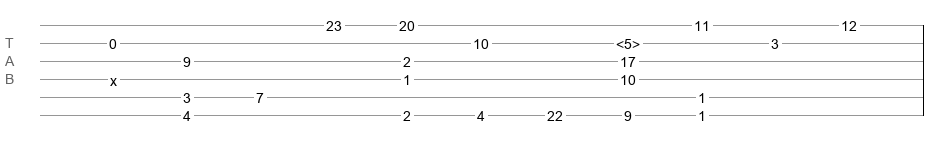0: (109, 36, 117, 46)
1: (403, 72, 411, 82), (698, 90, 706, 100), (698, 108, 706, 118)
10: (473, 36, 489, 46), (620, 72, 636, 82)
11: (694, 18, 710, 28)
12: (841, 18, 857, 28)
17: (620, 54, 636, 64)
2: (403, 108, 411, 118), (403, 54, 411, 64)
20: (399, 18, 415, 28)
22: (547, 108, 563, 118)
23: (326, 18, 342, 28)
3: (183, 90, 191, 100), (771, 36, 779, 46)
4: (183, 108, 191, 118), (477, 108, 485, 118)
7: (256, 90, 264, 100)
9: (183, 54, 191, 64), (624, 108, 632, 118)
harmonic: (616, 36, 640, 46)
x: (110, 73, 117, 81)
